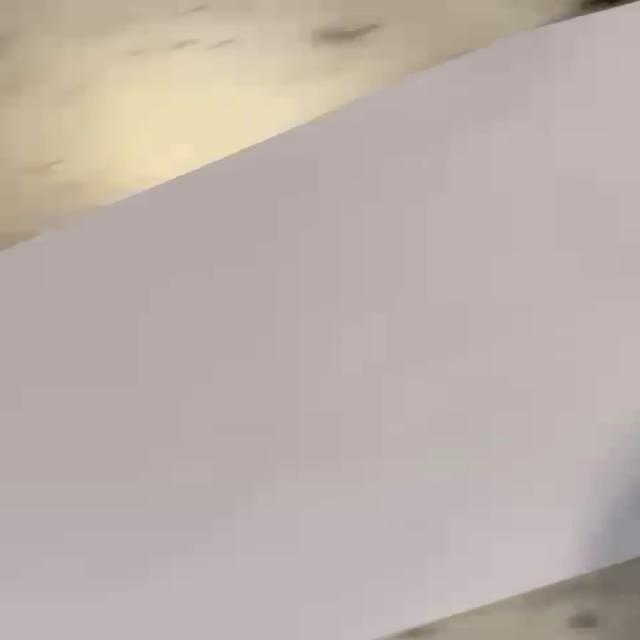road: (0, 2, 640, 640)
